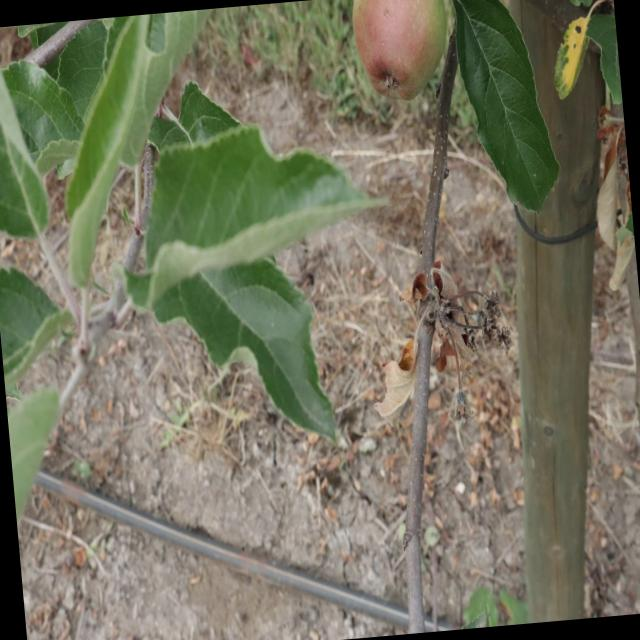-FireBlight-: (399, 254, 517, 386)
